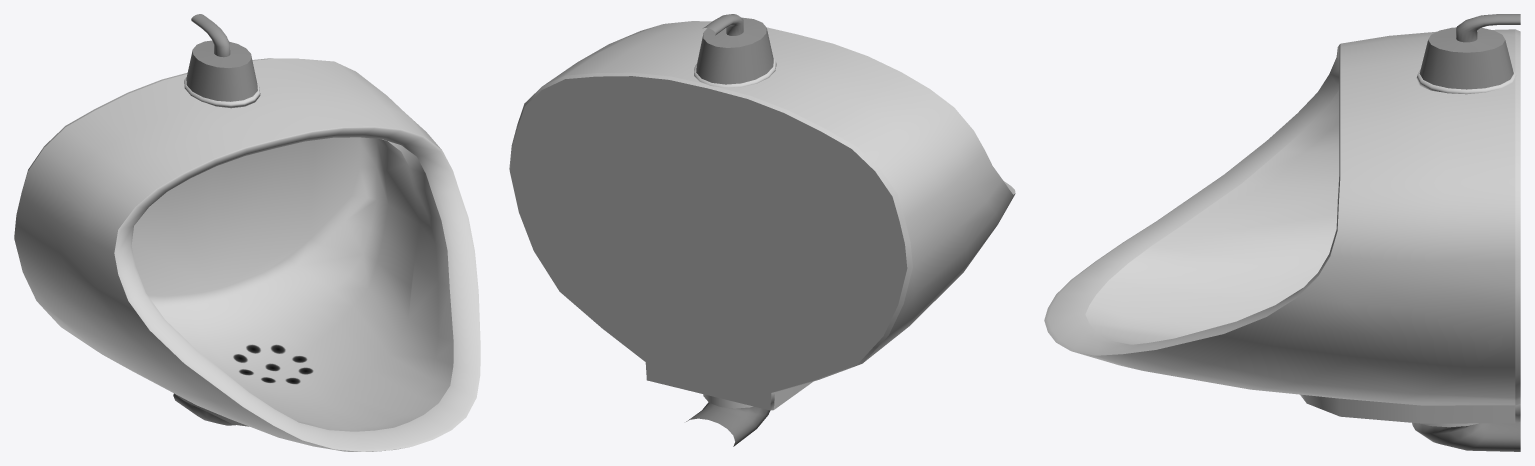
The model's file is sh-scopia-small-urinal.glb.
3 views of the same model, side by side, from view 1: azimuth 30°, elevation 25°; view 2: azimuth 150°, elevation 25°; view 3: azimuth 270°, elevation 25° (orthographic). The views are drawn at different scales.
Parts seen in each view (by area): view 1: urinal_Circle.001, holes_Circle.000; view 2: urinal_Circle.001; view 3: urinal_Circle.001.
Boxes of the visible parts, bbox=[...] form: urinal_Circle.001: bbox=[14, 14, 480, 451]; holes_Circle.000: bbox=[233, 345, 312, 383]; urinal_Circle.001: bbox=[509, 14, 1015, 446]; urinal_Circle.001: bbox=[1044, 14, 1520, 451].
Bounding box in the file's own units: 1 × 1 × 1.
4 materials, 1 textured.
